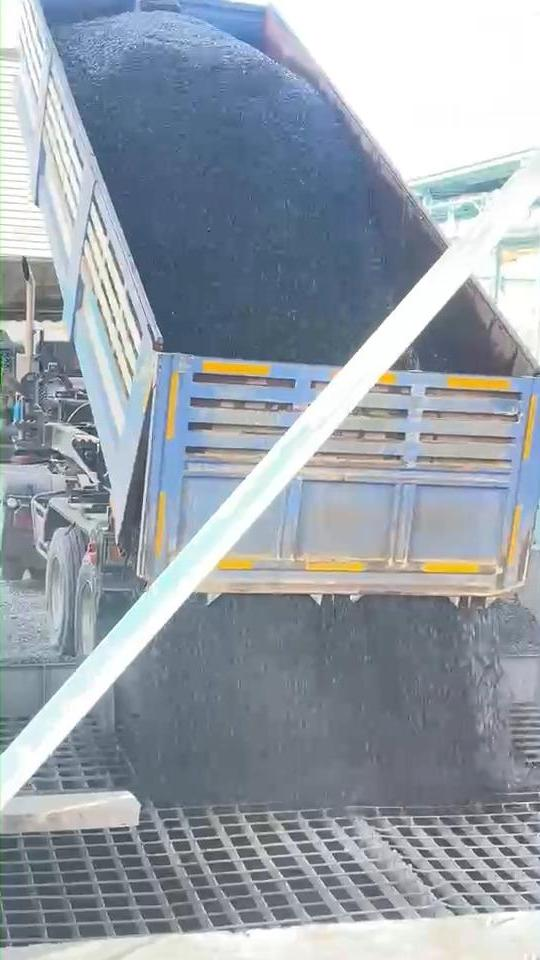gravel: (54, 11, 395, 363), (117, 597, 519, 807), (497, 601, 540, 653)
